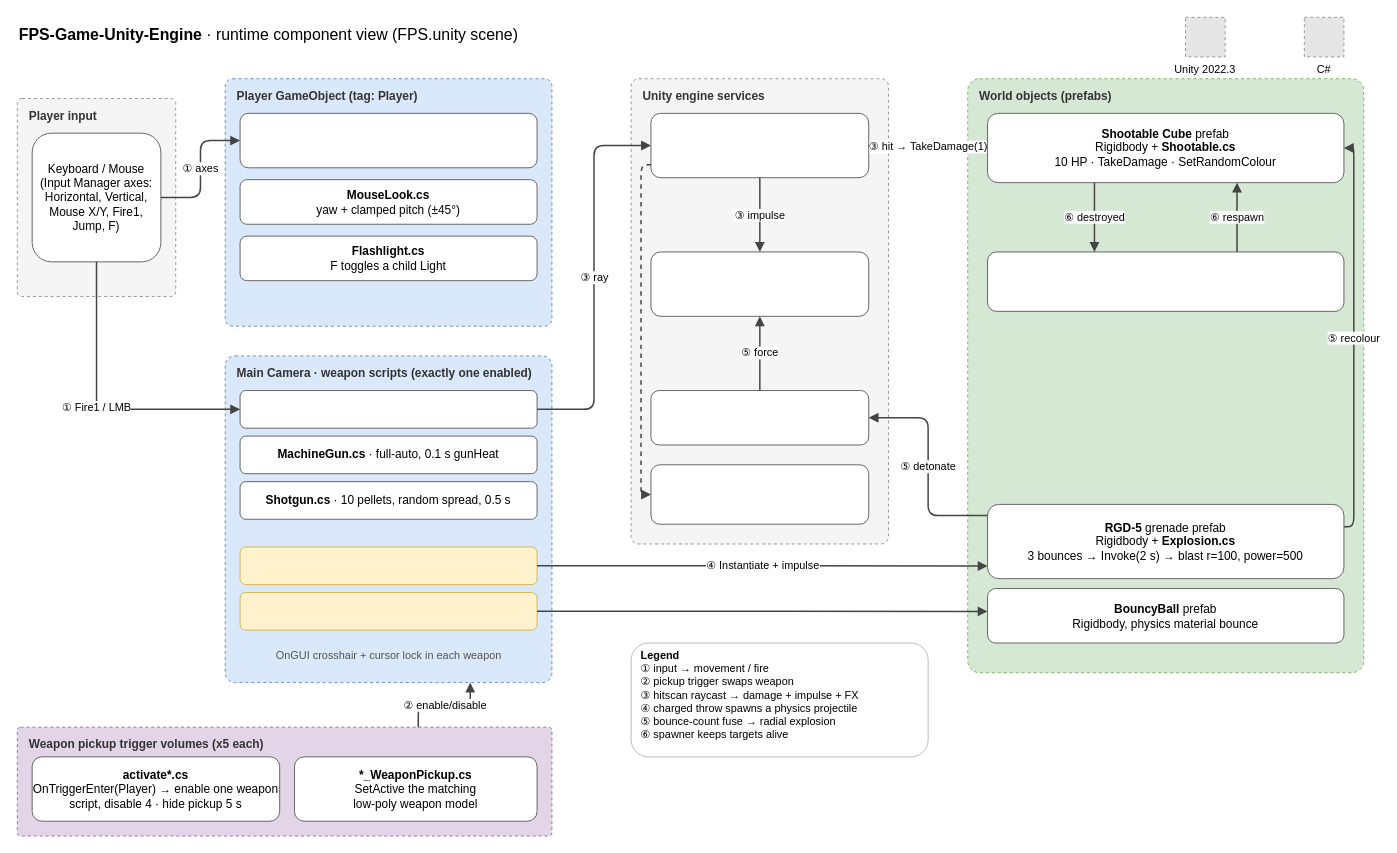
Some shapes in this 1397 by 853 pixel diagram are drawn without their labels. Grey dashed boxes stand in for pictures. The centre of each missing label's shape, as x and y in pixels:
BallLauncher.cs · hold-to-charge throw: (x=388, y=611)
FPSInput.cs CharacterController move, gravity + jump, terminal velocity: (x=388, y=140)
Grenade.cs · hold-to-charge throw (≤3 s): (x=388, y=565)
ParticleSystem prefab hit FX, destroyed after 1 s (coroutine): (x=759, y=494)
Physics.OverlapSphere blast-radius query: (x=759, y=417)
Physics.Raycast ScreenPointToRay from screen centre: (x=759, y=145)
Pistol.cs · semi-auto hitscan: (x=388, y=409)
RespawnCube.cs spawners (x33 in scene) re-Instantiate the cube when destroyed: (x=1165, y=281)
Rigidbody / PhysX AddForceAtPosition (impulse) AddExplosionForce: (x=759, y=283)
